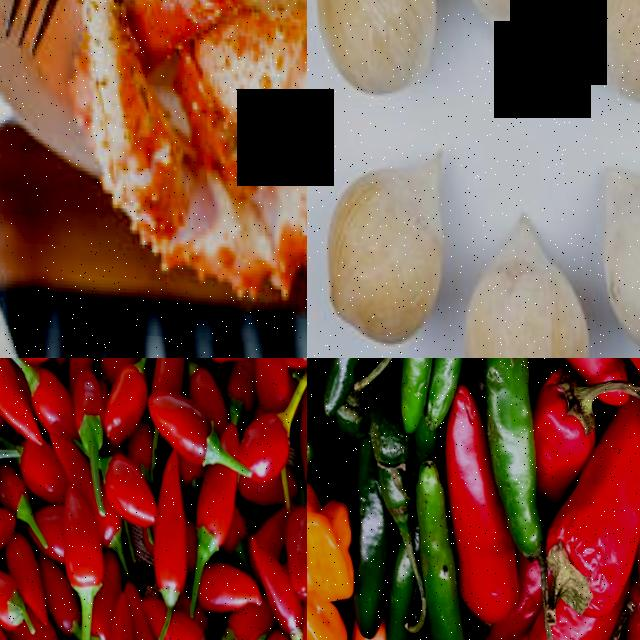chilli: (429, 387, 508, 621), (142, 448, 190, 604), (372, 358, 457, 431), (51, 485, 103, 601), (307, 358, 391, 422), (93, 587, 134, 640), (0, 559, 22, 631)
coconut: (308, 145, 443, 352), (439, 203, 593, 358), (307, 0, 444, 99), (580, 152, 640, 358), (569, 0, 640, 105)
crab: (58, 0, 307, 296)
